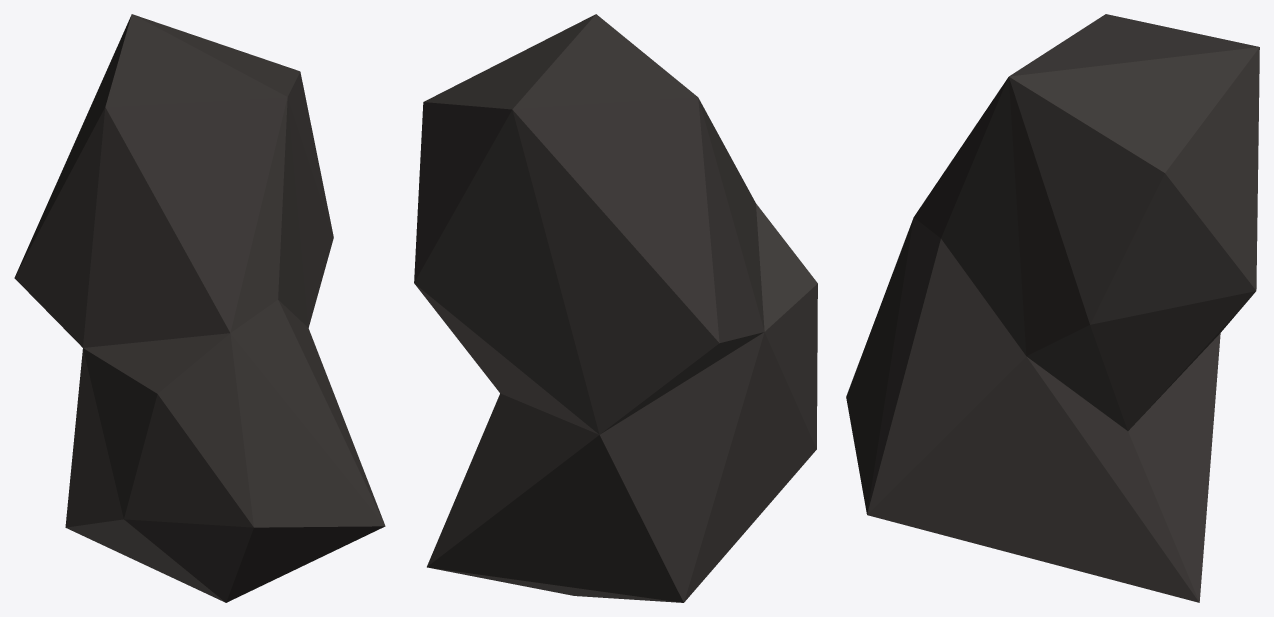
Rendered from Rock_Single_5.fbx.
The picture shows the model from 3 angles, left to right: view 1: azimuth 30°, elevation 25°; view 2: azimuth 150°, elevation 25°; view 3: azimuth 270°, elevation 25°; orthographic projection. The views are drawn at different scales.
Parts seen in each view (by area): view 1: Group5399; view 2: Group5399; view 3: Group5399.
Part boxes in pixels (x1=…): Group5399: x1=14, y1=14, x2=385, y2=602; Group5399: x1=414, y1=14, x2=817, y2=602; Group5399: x1=846, y1=14, x2=1259, y2=602.
Bounding box in the file's own units: 0.7969 × 1.34 × 0.9504.
